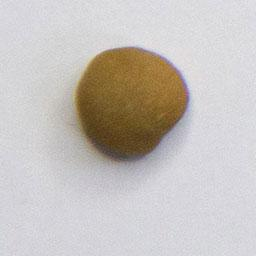defect: (68, 40, 197, 165)
